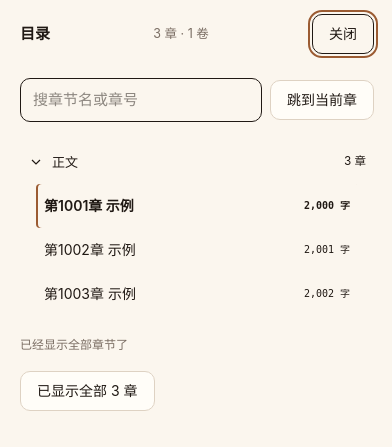
新增控件：目录空态清空搜索（C-31） › 无匹配时出现；点后清空输入、恢复列表并把焦点交还搜索框
This screenshot has width=392, height=447.
Type "不存在的标题" into the search field with test id "toc-search-input" at (141, 100), box [20, 78, 262, 122]
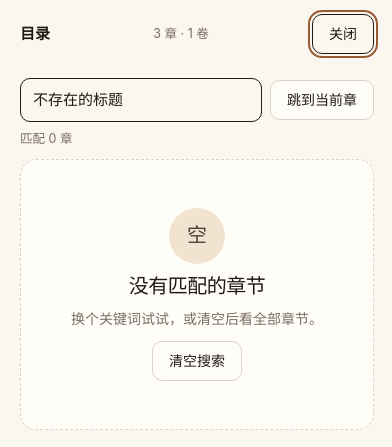
Now the element with test id "toc-empty" is shown, box [20, 159, 374, 430]
Click the button "清空搜索" at (197, 361), box [152, 341, 242, 381]
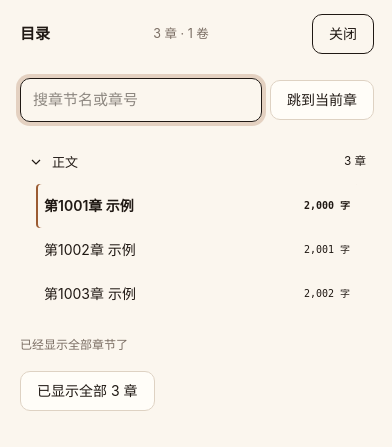
Now the search field with test id "toc-search-input" is empty, box [20, 78, 262, 122]
Now the element with test id "toc-empty" is gone
